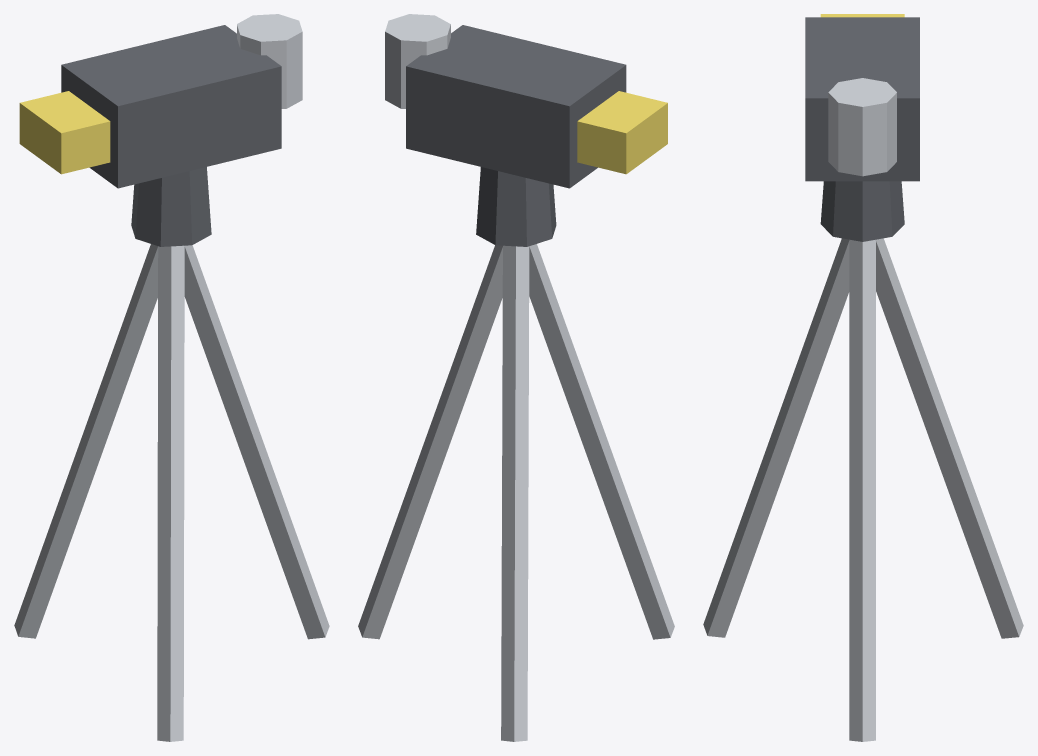
Rendered from velodrome-and-track-cycling-photo-finish-rig-c9d5114d__37993.glb.
3 views of the same model, side by side, from view 1: azimuth 30°, elevation 25°; view 2: azimuth 150°, elevation 25°; view 3: azimuth 270°, elevation 25° (orthographic).
Visible parts, largest first — view 1: photo-finish-rig-steel, photo-finish-rig-charcoal, photo-finish-rig-canary; view 2: photo-finish-rig-steel, photo-finish-rig-charcoal, photo-finish-rig-canary; view 3: photo-finish-rig-steel, photo-finish-rig-charcoal.
Part boxes in pixels (x1,y1,x2,y2): photo-finish-rig-steel: [14, 14, 329, 741]; photo-finish-rig-charcoal: [61, 25, 281, 246]; photo-finish-rig-canary: [19, 91, 110, 174]; photo-finish-rig-steel: [358, 14, 674, 741]; photo-finish-rig-charcoal: [406, 25, 626, 246]; photo-finish-rig-canary: [577, 91, 667, 174]; photo-finish-rig-steel: [703, 78, 1023, 741]; photo-finish-rig-charcoal: [805, 17, 919, 241].
Bounding box in the file's own units: 0.883 × 1.81 × 0.8379.
